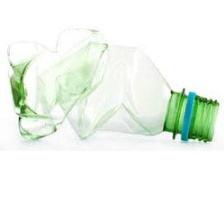bottle: (4, 24, 219, 150)
